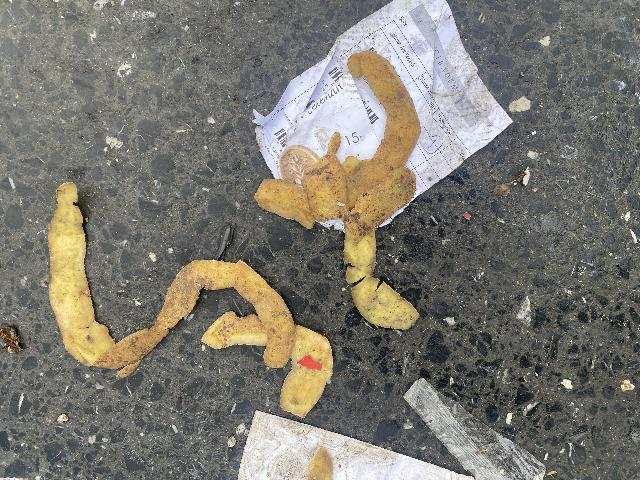Kagit: (340, 438, 405, 480), (257, 427, 300, 480)
Organik: (103, 262, 338, 414), (443, 35, 540, 170), (343, 173, 422, 330), (41, 179, 100, 379), (235, 71, 351, 151), (349, 51, 430, 162), (256, 181, 314, 230), (310, 441, 338, 480)
Plastik: (413, 379, 597, 480)
